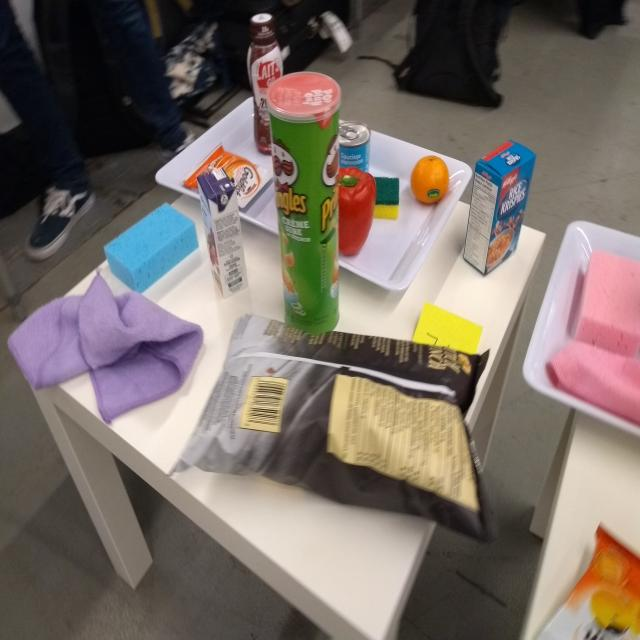cereal: (459, 135, 539, 280)
cloth_opl: (5, 272, 206, 429)
grape_juice: (195, 167, 251, 307)
orange: (408, 150, 451, 208)
potato_chips: (165, 308, 500, 546)
pringles: (261, 66, 344, 339)
sponge_opl: (101, 197, 201, 300)
